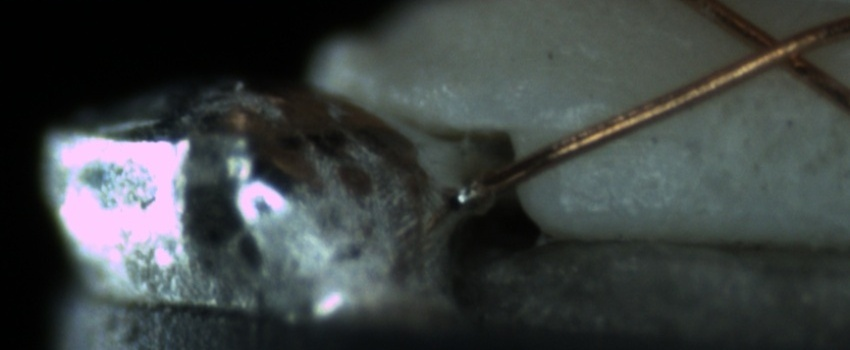CL: (725, 15, 831, 83)
DL: (537, 106, 682, 168)
